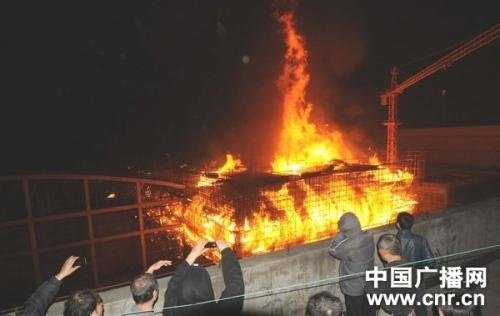fire: (151, 10, 430, 265)
